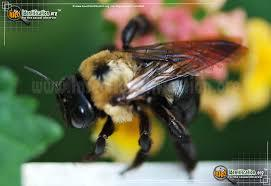Xylocopa: (37, 17, 246, 175)
